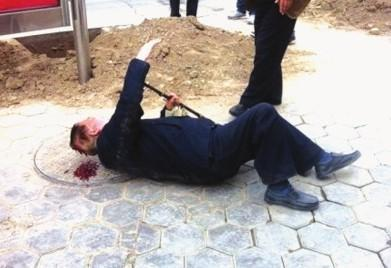Fall-Detected: (59, 32, 364, 209)
